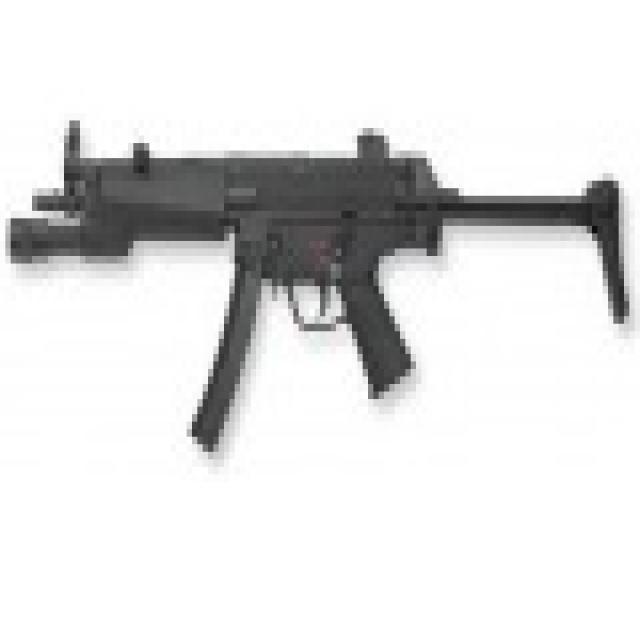Gun: (4, 100, 640, 492)
